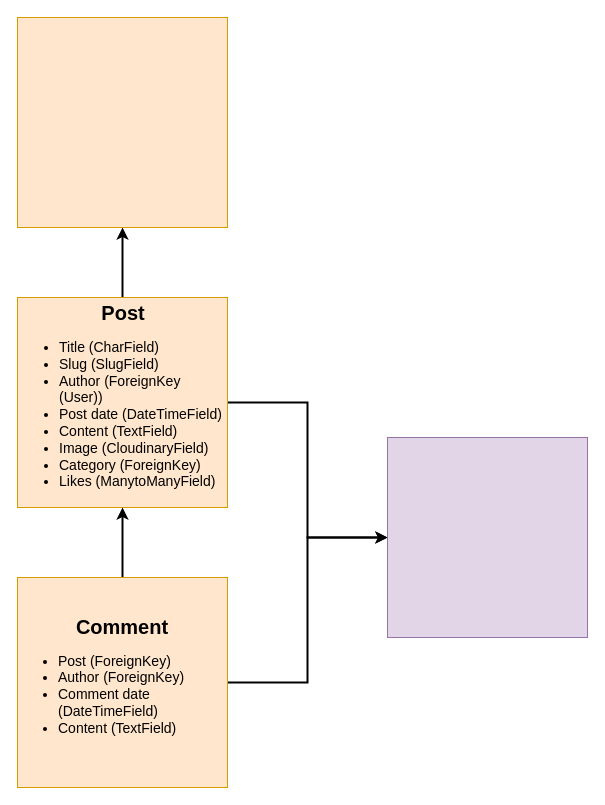
Image size: 605x805. Some labels were removed from this diagram. The shapes that lost their labels are listed below. From the top down, each one's centre as x and y in pixels, then its label:
the point at 122,122: Category Title (CharField)
the point at 487,537: User Django Built-In
